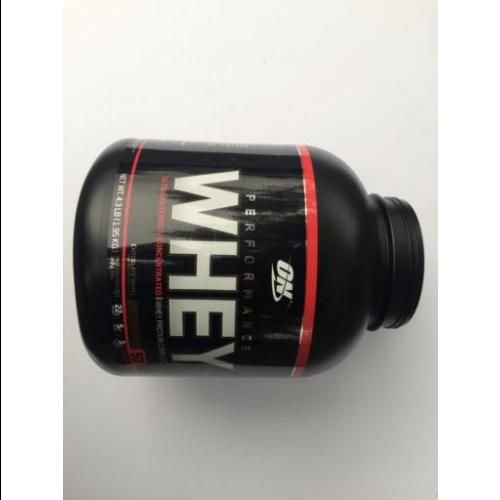plastic: (78, 138, 424, 378)
